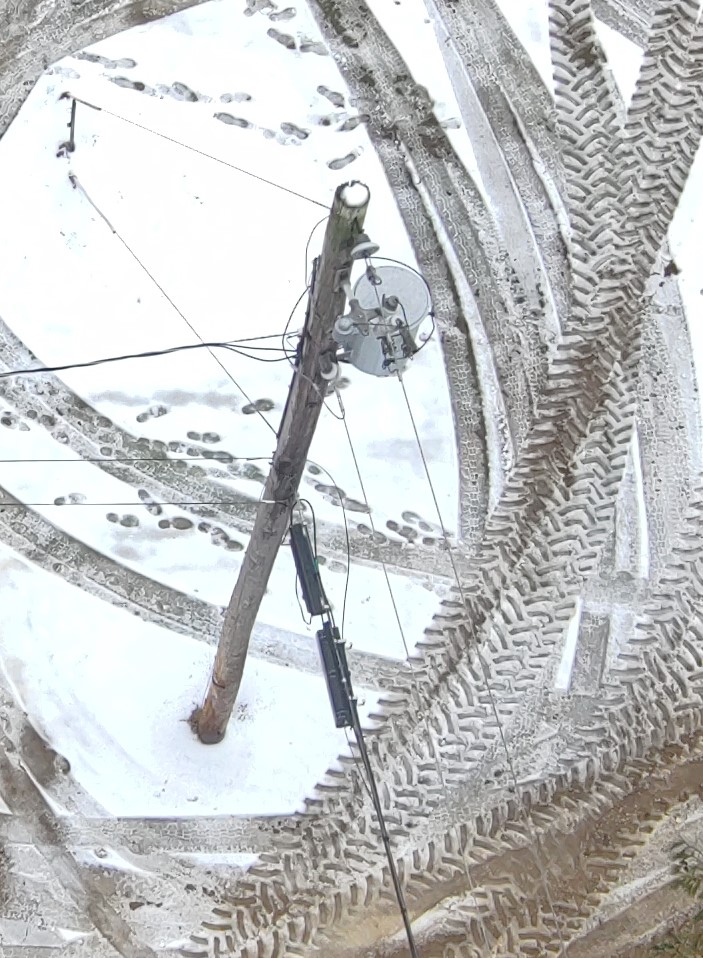pole: (211, 143, 449, 848)
